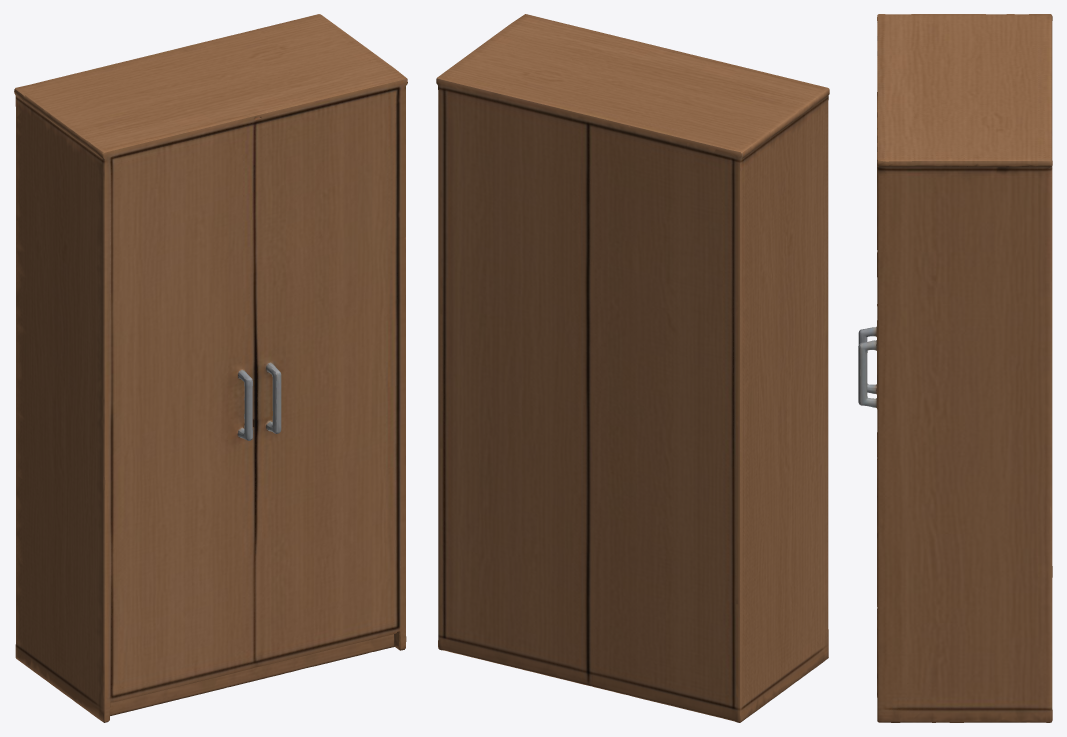
Rendered from L_WARDROBE.glb.
3 renders of one model, left to right at view 1: azimuth 30°, elevation 25°; view 2: azimuth 150°, elevation 25°; view 3: azimuth 270°, elevation 25°, orthographic.
Visible parts, largest first — view 1: world; view 2: world; view 3: world.
Part boxes in pixels (box(x1,y1,x2,y2)): world: box(14, 14, 407, 722); world: box(436, 14, 829, 722); world: box(858, 14, 1052, 722).
Size of the model in its own units: 1.8 by 3.21 by 1.
Materials: 1 (1 with a texture image).
